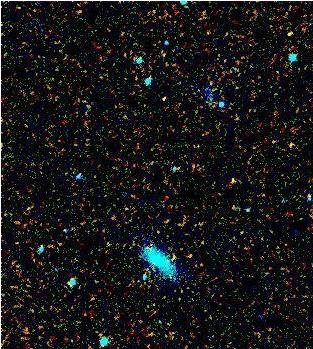star: (150, 84, 180, 114)
